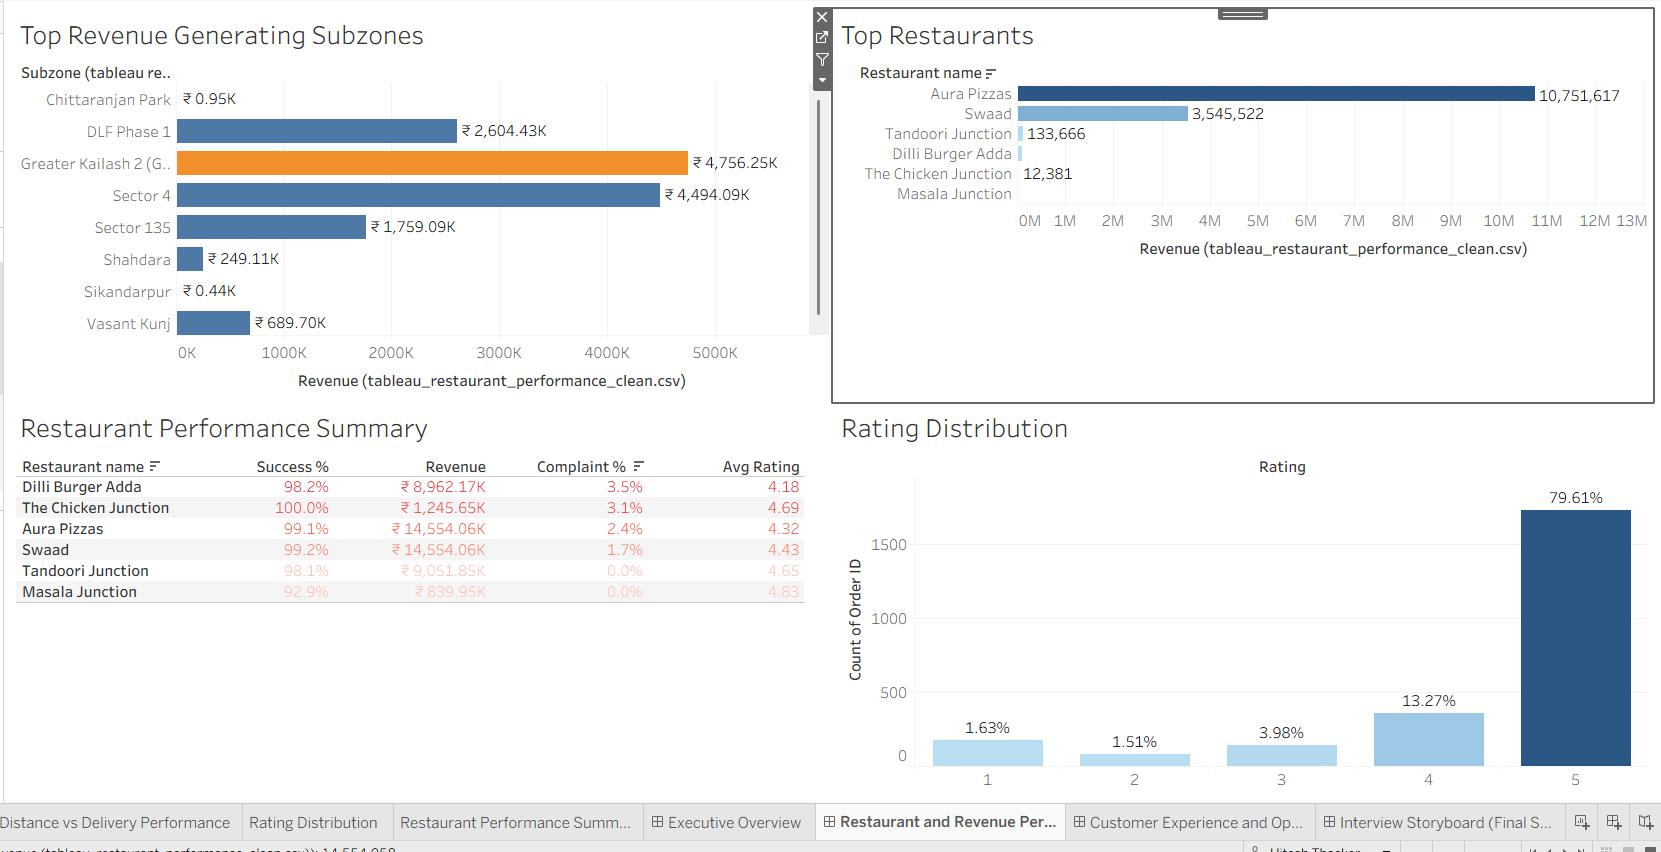

This screenshot's page, from the dashboard's own definition file:
{"tool":"tableau","page":{"name":"Restaurant and Revenue Performance","canvas":[1000,1000],"units":"permille","ordinal":3},"visuals":[{"type":"worksheet","title":"Top Revenue Generating Subzones ","mark":"Automatic","rows":["Subzone (tableau_restaurant_performance_clean.csv)"],"cols":["Revenue (tableau_restaurant_performance_clean.csv)"],"box":[4.8,10,495.2,490]},{"type":"worksheet","title":"Top Restaurants","mark":"Automatic","rows":["Restaurant name"],"cols":["Revenue (tableau_restaurant_performance_clean.csv)"],"box":[500,10,495.2,490]},{"type":"worksheet","title":"Restaurant Performance Summary ","mark":"Automatic","rows":["Restaurant name"],"box":[4.8,500,495.2,490]},{"type":"worksheet","title":"Rating Distribution","mark":"Bar","rows":["Order ID"],"cols":["Rating"],"box":[500,500,495.2,490]}]}

Visuals, with their boxes on the dashboard's canvas, which has no fixed pixel size, in thousandths of its width and height (x1, y1, x2, y2). These are canvas units, not pixel positions in the 1661x852 screenshot, which may show the page scaled, cropped or inside an application window:
"Top Revenue Generating Subzones " worksheet: region(5, 10, 500, 500)
"Top Restaurants" worksheet: region(500, 10, 995, 500)
"Restaurant Performance Summary " worksheet: region(5, 500, 500, 990)
"Rating Distribution" worksheet (Bar marks): region(500, 500, 995, 990)
